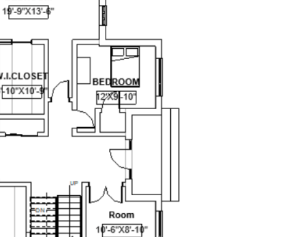door: (107, 145, 137, 173), (51, 77, 71, 109)
double door: (88, 177, 125, 206)
window: (151, 54, 174, 97)
